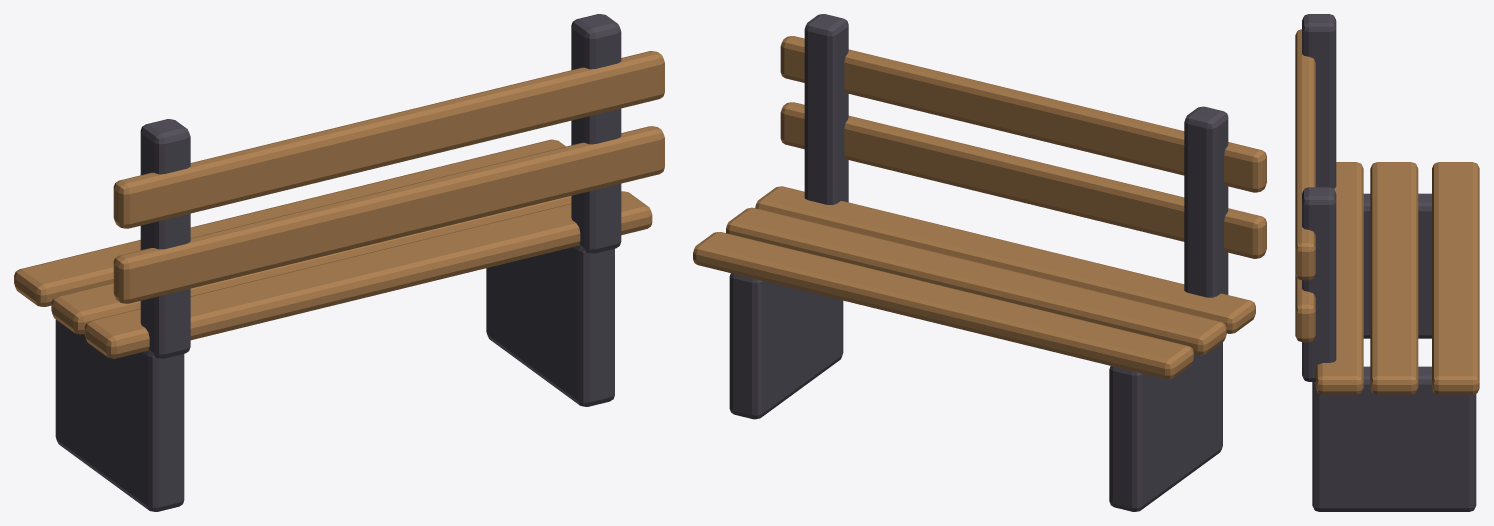
Rendered from bench.fbx.
The picture shows the model from 3 angles, left to right: view 1: azimuth 30°, elevation 25°; view 2: azimuth 150°, elevation 25°; view 3: azimuth 270°, elevation 25°; orthographic projection. The views are drawn at different scales.
Visible parts, largest first — view 1: bench; view 2: bench; view 3: bench.
Boxes of the visible parts, box(x1,y1,x2,y2) form: bench: box(14, 14, 664, 511); bench: box(693, 14, 1266, 511); bench: box(1295, 14, 1479, 511).
Size of the model in its own units: 0.76 by 0.51 by 0.27.
